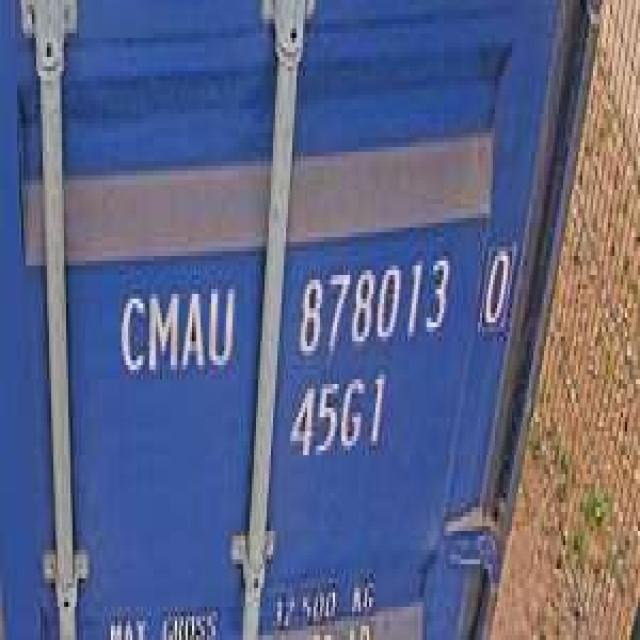dv: (478, 237, 512, 332)
owner: (111, 266, 239, 380)
serial: (290, 247, 455, 361)
size: (286, 365, 390, 465)
